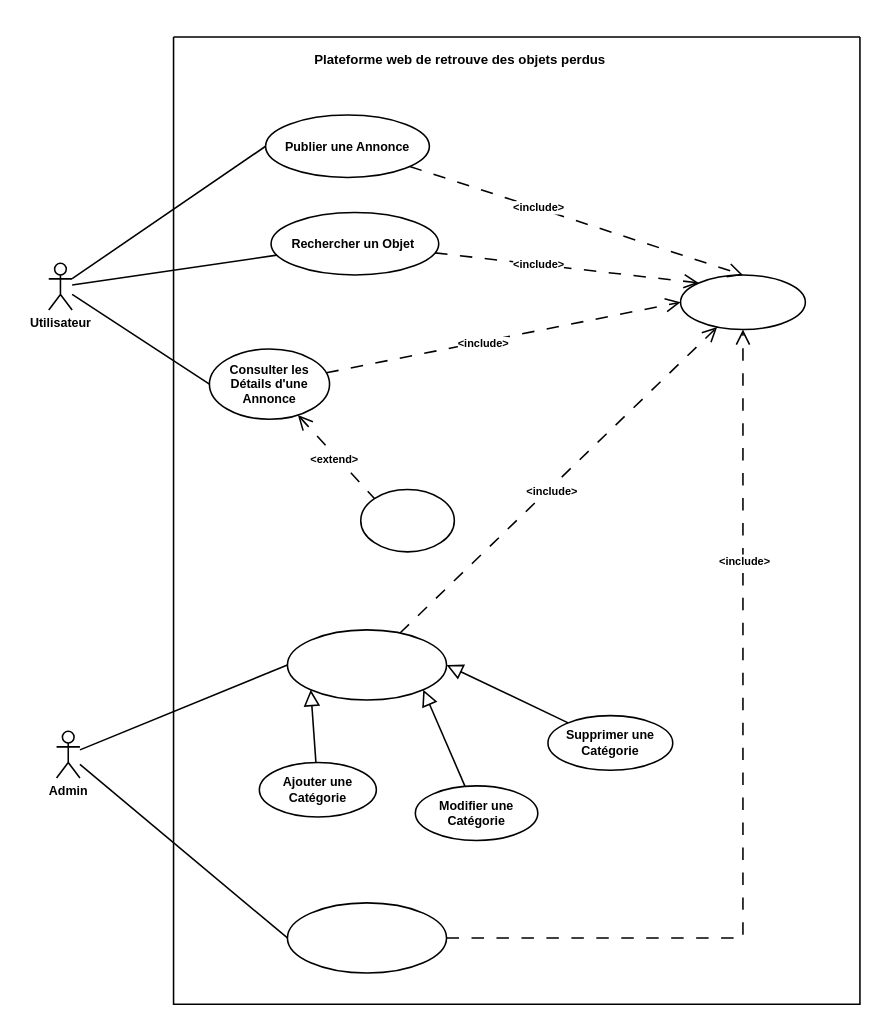
This 888x1033 diagram has some shape labels left out. Here are the shapes that lost their labels. From the top down, the centre of each, then its label:
At point 742,302: "Se Connecter".
At point 407,520: "Commenter une Annonce".
At point 366,664: "Gérer les Catégories".
At point 366,937: "Modifier l'état d'une Annonce".
